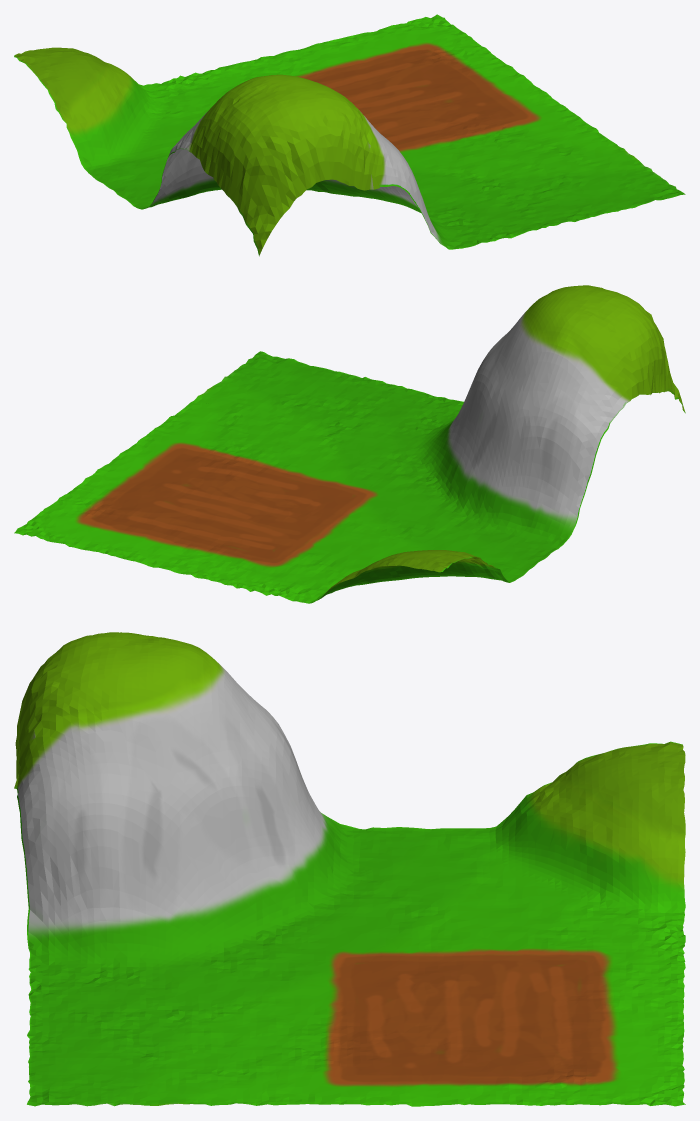
The model's file is map.obj.
3 renders of one model, top to bottom at view 1: azimuth 30°, elevation 25°; view 2: azimuth 150°, elevation 25°; view 3: azimuth 270°, elevation 25°, orthographic. The views are drawn at different scales.
Visible parts, largest first — view 1: Plane; view 2: Plane; view 3: Plane.
Part boxes in pixels (<box>): Plane: <box>14,14,685,256</box>; Plane: <box>14,285,685,603</box>; Plane: <box>14,632,685,1106</box>.
Bounding box in the file's own units: 20.53 × 7.59 × 20.53.
Materials: 1 (1 with a texture image).
